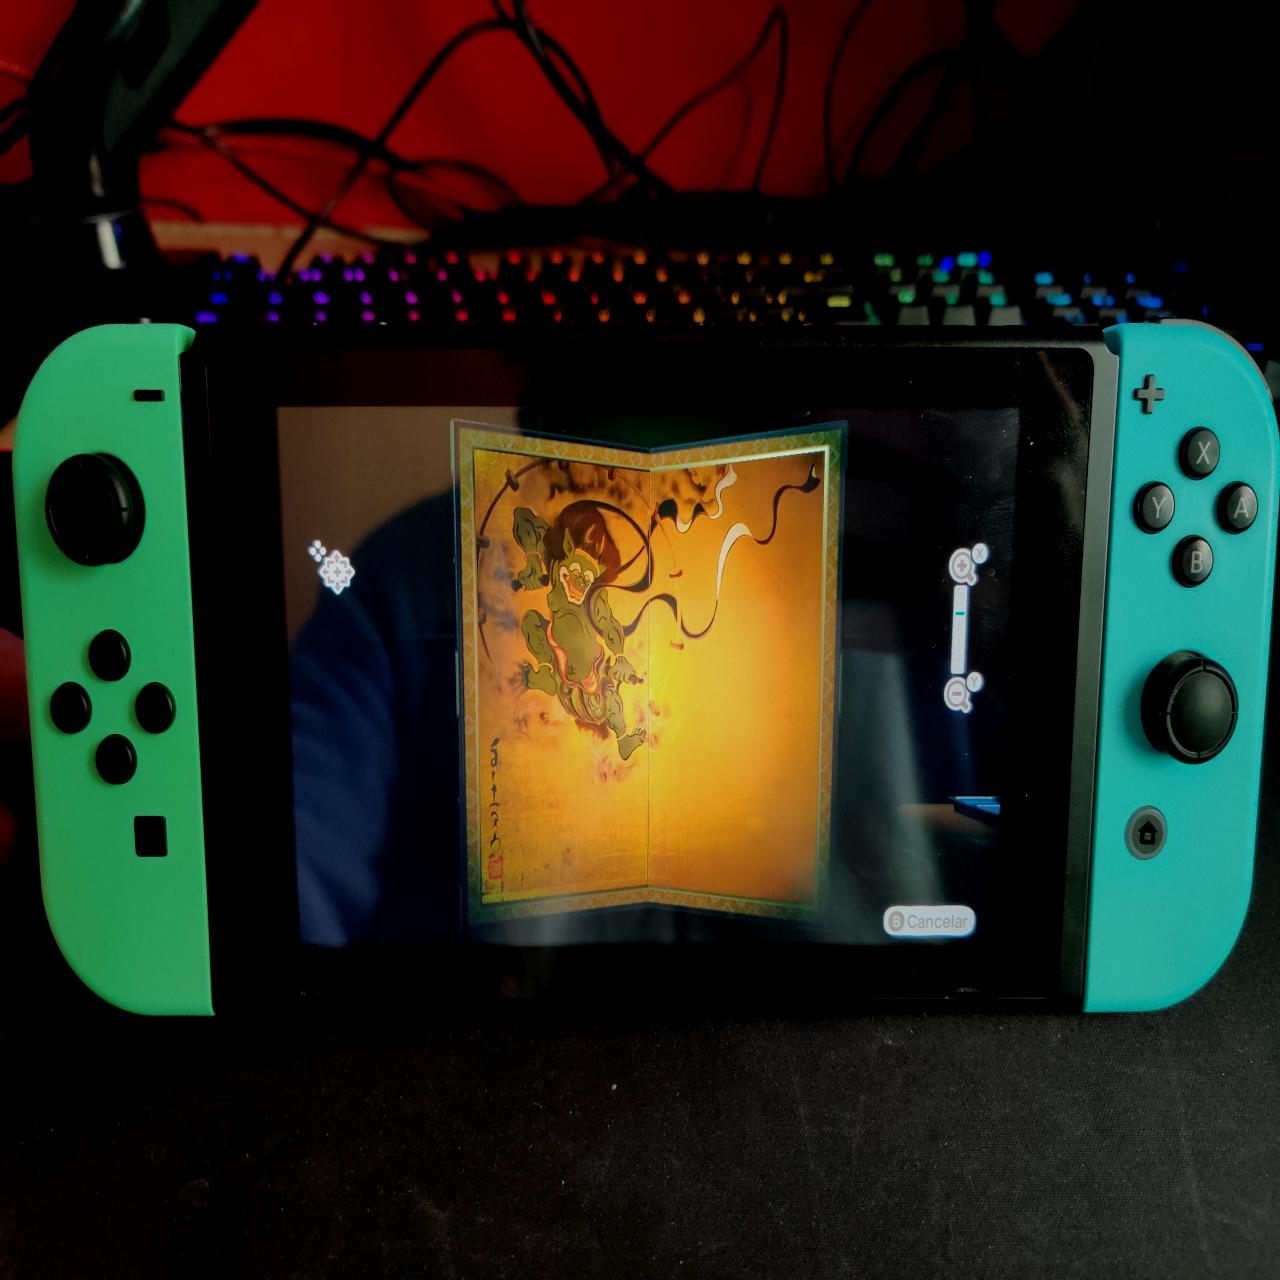RaijinFake: (457, 428, 832, 921)
